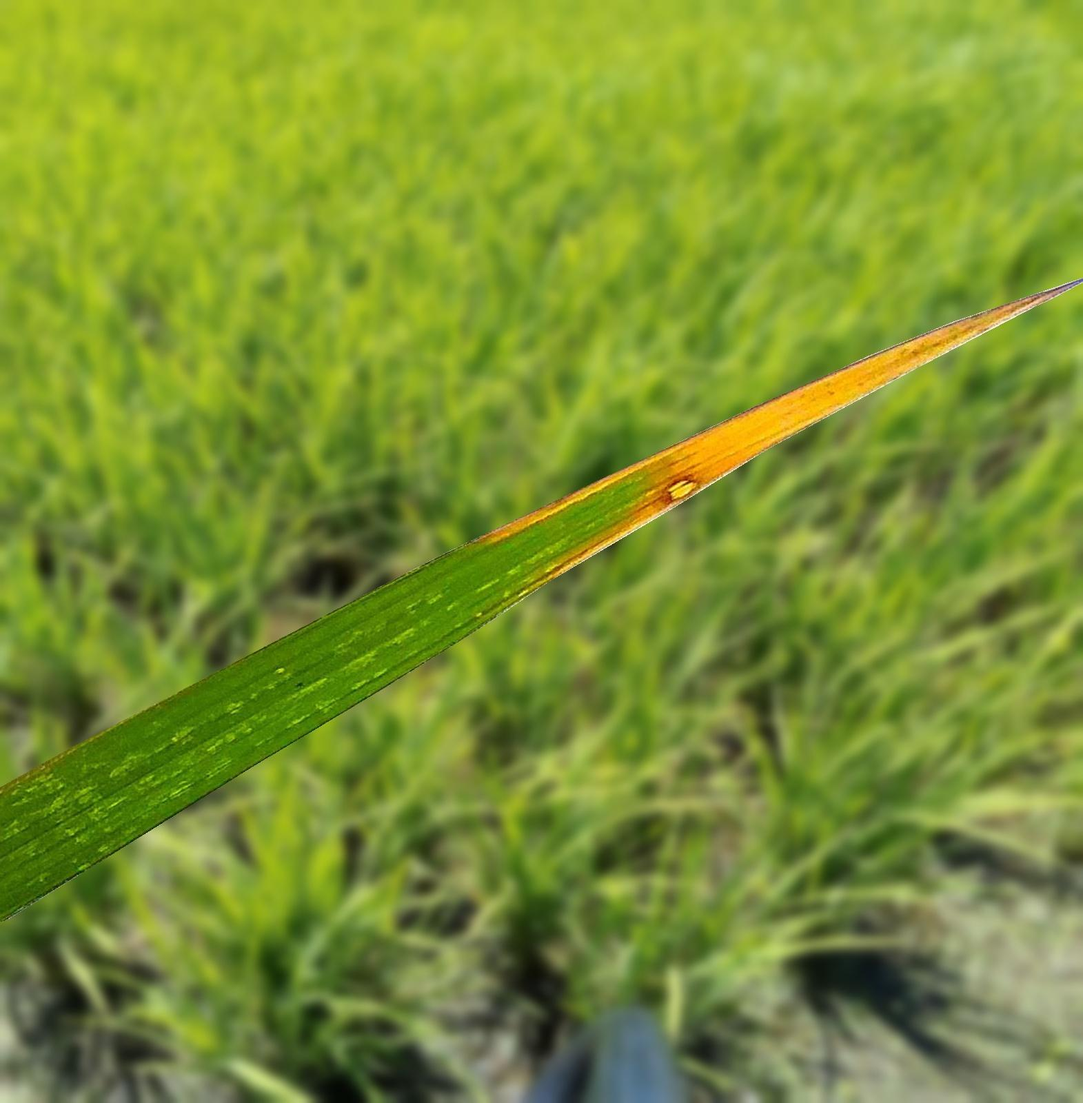BLB: (477, 278, 1082, 594)
LEAF: (0, 280, 1082, 921)
